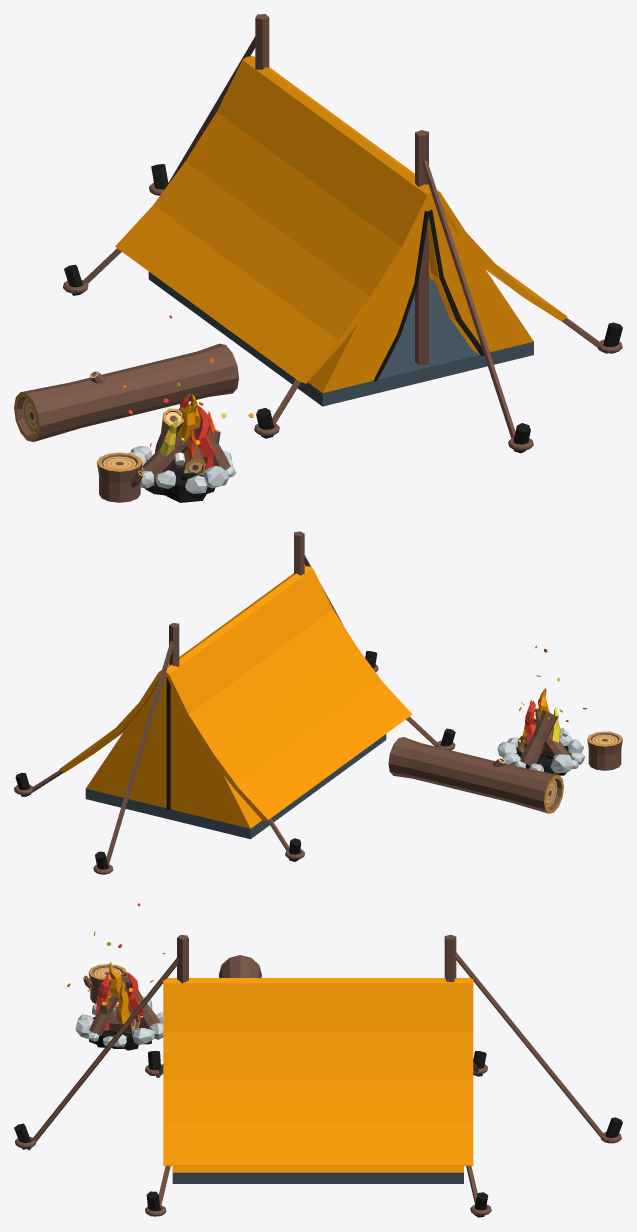
File: camping.glb
3 renders of one model, top to bottom at view 1: azimuth 30°, elevation 25°; view 2: azimuth 150°, elevation 25°; view 3: azimuth 270°, elevation 25°, orthographic. The views are drawn at different scales.
Parts seen in each view (by area): view 1: group263612592, group550750859, group330264743, group1774949739, group2003861280, group1997237509, group1139254300, group1726783281, group1088612588, group1756206511, group1726941988, group612170013 (+4 smaller); view 2: group263612592, group912174311, group550750859, group330264743, group1997237509, group1088612588, group312988249, group1121833705, group535548886; view 3: group1997237509, group330264743, group756785519, group312988249, group1726783281, group550750859, group1088612588, group1725671573, group1364602715, group1139254300, group1121833705, group1756206511.
Boxes of the visible parts, <box> form: group263612592: <box>115,56,431,383</box>; group550750859: <box>14,343,238,441</box>; group330264743: <box>148,271,533,406</box>; group1774949739: <box>315,200,429,392</box>; group2003861280: <box>427,195,533,354</box>; group1997237509: <box>250,55,567,321</box>; group1139254300: <box>415,130,428,365</box>; group1726783281: <box>421,160,515,438</box>; group1088612588: <box>96,452,142,502</box>; group1756206511: <box>145,462,214,502</box>; group1726941988: <box>428,209,484,355</box>; group612170013: <box>373,211,429,381</box>; group263612592: <box>165,566,412,821</box>; group912174311: <box>86,674,256,828</box>; group550750859: <box>388,737,563,813</box>; group330264743: <box>85,734,386,839</box>; group1997237509: <box>59,566,305,772</box>; group1088612588: <box>587,731,622,770</box>; group312988249: <box>106,641,173,863</box>; group1121833705: <box>520,710,557,765</box>; group535548886: <box>166,677,170,810</box>; group1997237509: <box>163,978,473,1165</box>; group330264743: <box>172,1172,463,1183</box>; group756785519: <box>185,1166,451,1172</box>; group312988249: <box>454,952,605,1137</box>; group1726783281: <box>27,958,177,1150</box>; group550750859: <box>218,955,261,977</box>; group1088612588: <box>88,964,126,1003</box>; group1725671573: <box>444,934,456,982</box>; group1364602715: <box>89,991,119,1035</box>; group1139254300: <box>177,935,188,983</box>; group1121833705: <box>121,972,160,1028</box>; group1756206511: <box>89,1017,151,1050</box>.
Size of the model in its own units: 3.33 by 1.49 by 3.79.
